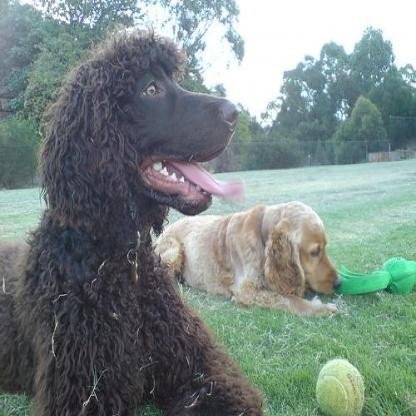Irish_water_spaniel: (1, 19, 267, 414)
